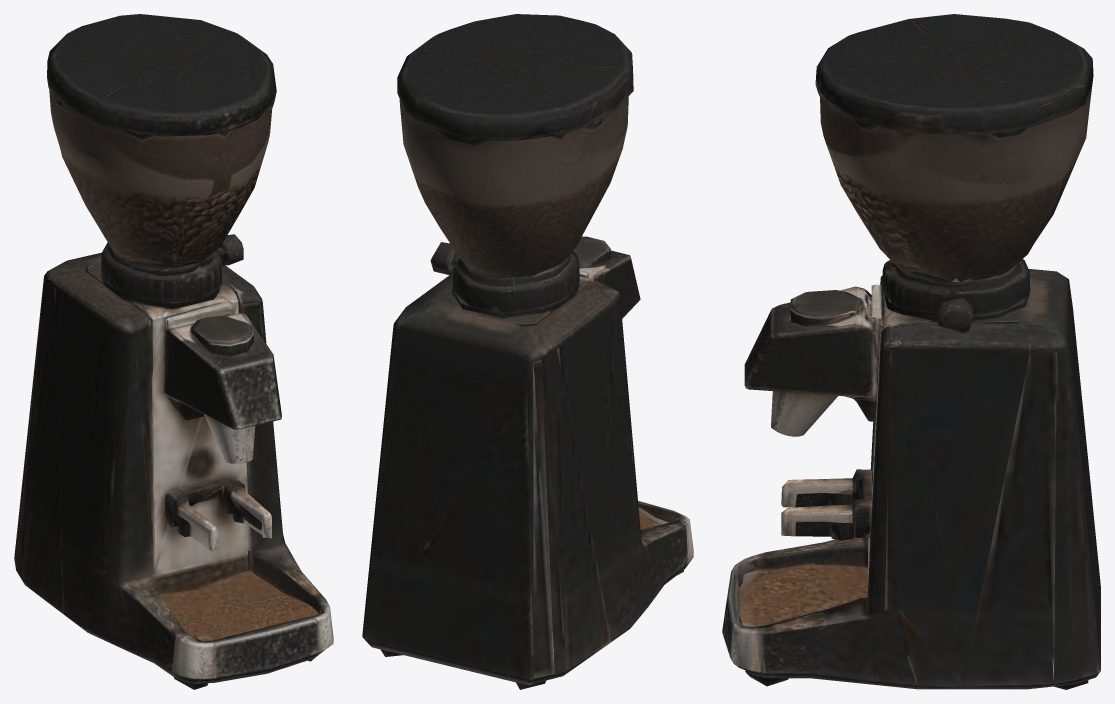
File: p7-espresso-grinder-t25.glb
3 renders of one model, left to right at view 1: azimuth 30°, elevation 25°; view 2: azimuth 150°, elevation 25°; view 3: azimuth 270°, elevation 25°, orthographic. The views are drawn at different scales.
Parts seen in each view (by area): view 1: p7-espresso-grinder-t25; view 2: p7-espresso-grinder-t25; view 3: p7-espresso-grinder-t25.
Part boxes in pixels (bbox=[...]): p7-espresso-grinder-t25: bbox=[14, 14, 333, 689]; p7-espresso-grinder-t25: bbox=[362, 14, 693, 689]; p7-espresso-grinder-t25: bbox=[722, 14, 1100, 689].
Bounding box in the file's own units: 0.22 × 0.6 × 0.35.
Materials: 1 (1 with a texture image).
